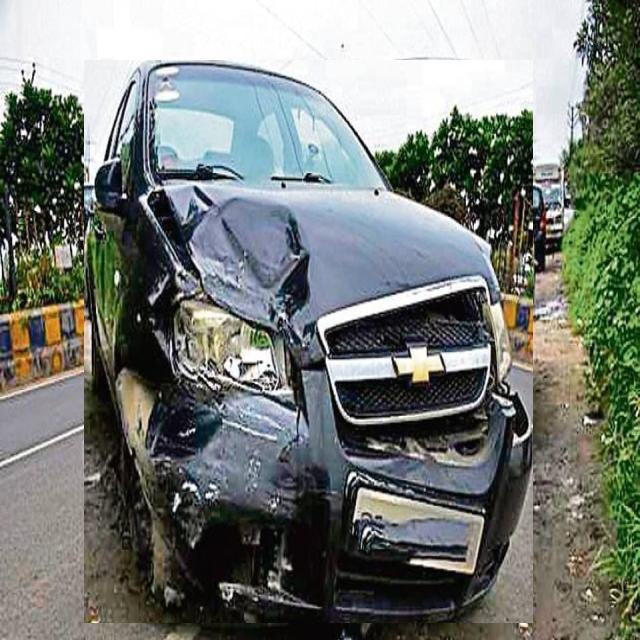accident: (85, 60, 533, 623)
